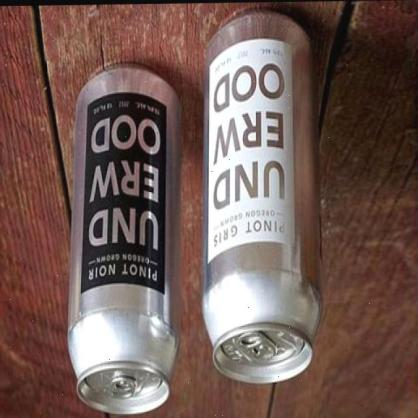can: (206, 7, 322, 385), (73, 60, 180, 416)
